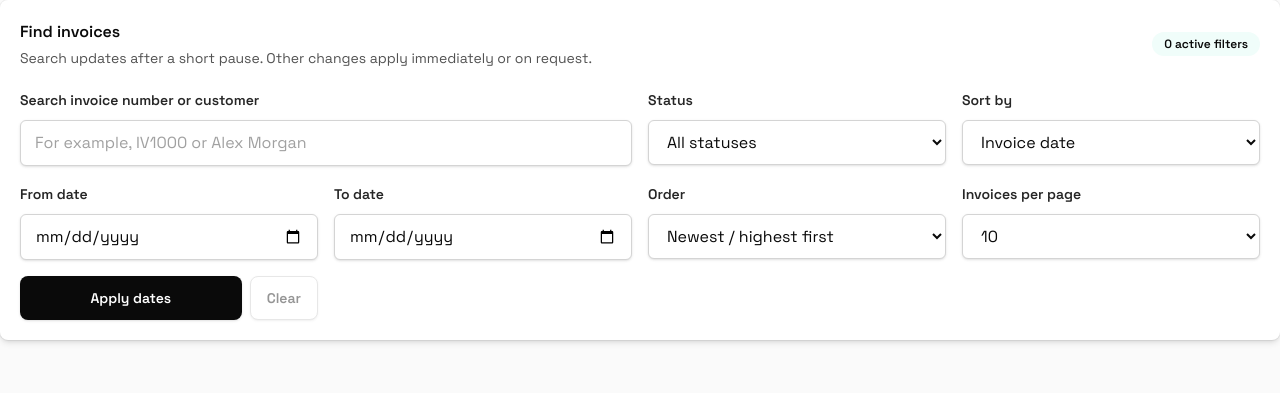
Test: InvoiceFilters › rejects an inverted date range without navigating
The image size is (1280, 393).
In the date field labelled "From date": coordinates (169, 237) [20,214,318,260], type "2026-02-01"
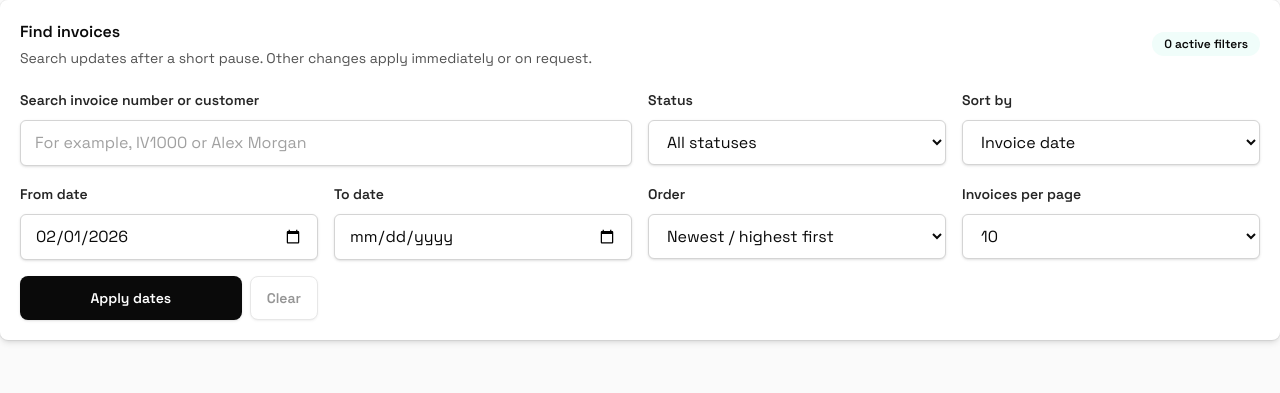
In the date field labelled "To date": coordinates (483, 237) [334,214,632,260], type "2026-01-01"
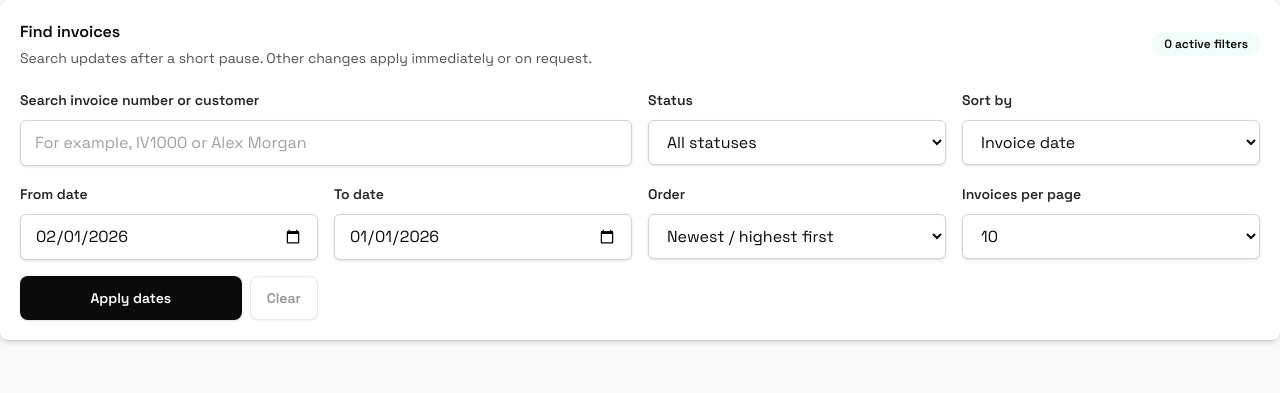
Click the button "Apply dates": coordinates (131, 298) [20,276,242,320]
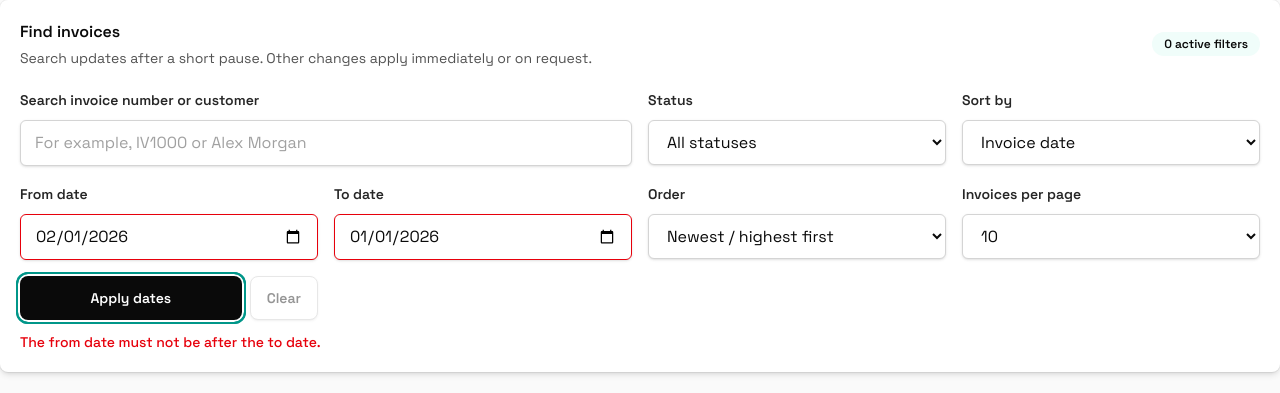
Check: the text "The from date must not be after the to date." is shown, box [20,333,321,351]
